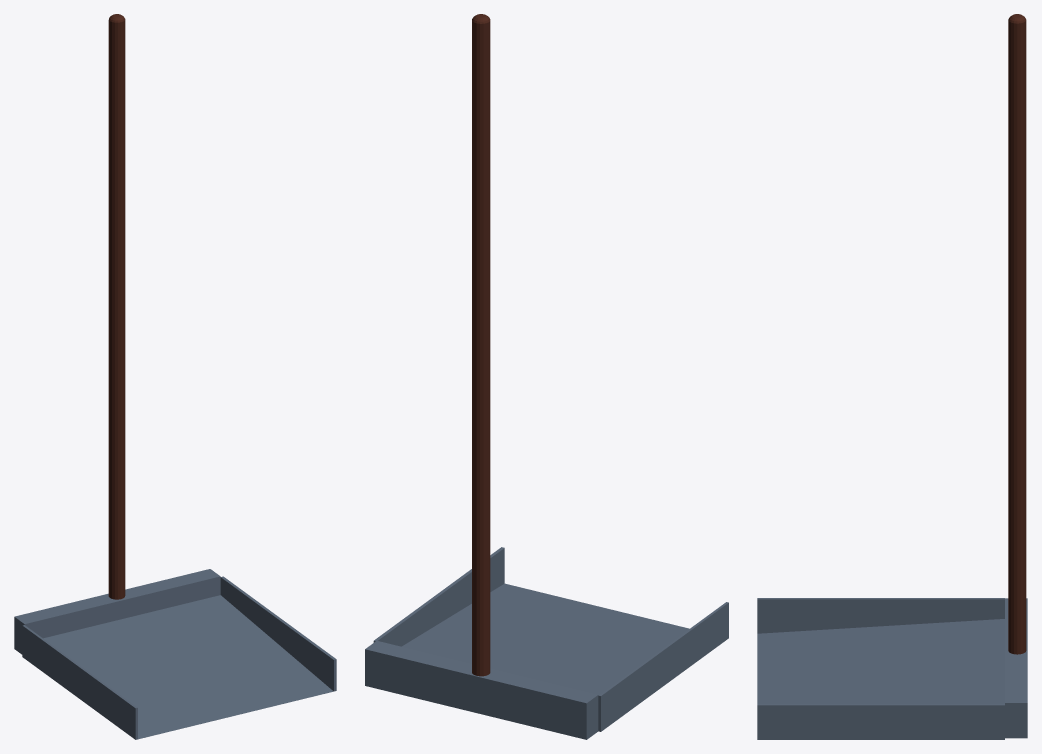
The picture shows the model from 3 angles, left to right: view 1: azimuth 30°, elevation 25°; view 2: azimuth 150°, elevation 25°; view 3: azimuth 270°, elevation 25°; orthographic projection. The views are drawn at different scales.
Visible parts, largest first — view 1: Plane, Circle; view 2: Plane, Circle; view 3: Plane, Circle.
Boxes of the visible parts, <box> form: Plane: <box>14,569,336,739</box>; Circle: <box>108,14,125,599</box>; Plane: <box>365,547,728,739</box>; Circle: <box>472,14,490,676</box>; Plane: <box>757,598,1027,739</box>; Circle: <box>1008,14,1026,654</box>.
Size of the model in its own units: 56.28 by 164 by 59.89.
